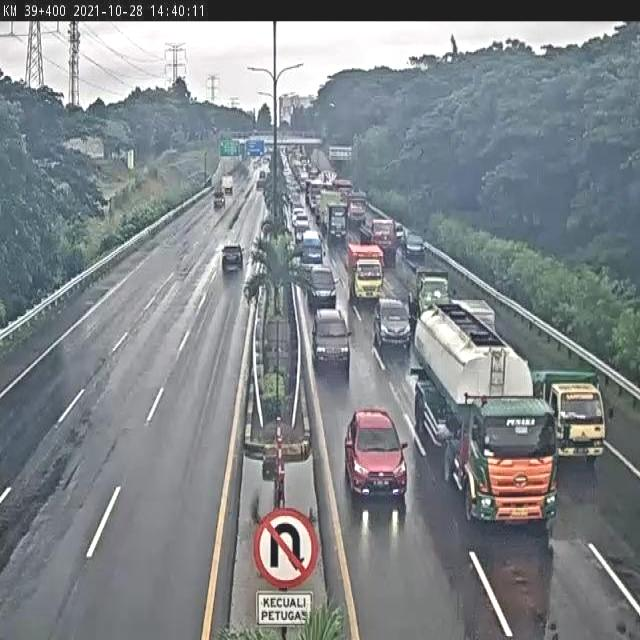Car: (344, 408, 408, 505), (312, 308, 351, 375), (372, 297, 412, 353), (302, 264, 336, 312), (402, 233, 427, 268), (221, 244, 243, 272), (292, 209, 310, 240)
Truck: (411, 298, 548, 524), (532, 361, 616, 472), (408, 264, 454, 316), (348, 242, 384, 300), (366, 218, 398, 266), (346, 199, 369, 239), (326, 203, 348, 242)
Van: (300, 230, 323, 262)
